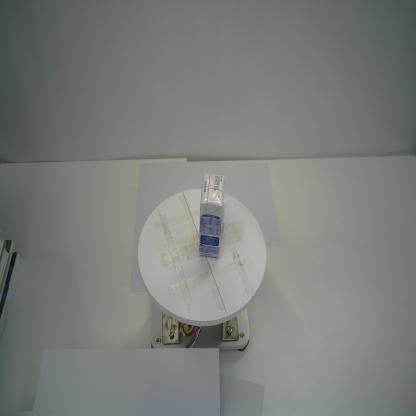Milk: (197, 172, 226, 262)
